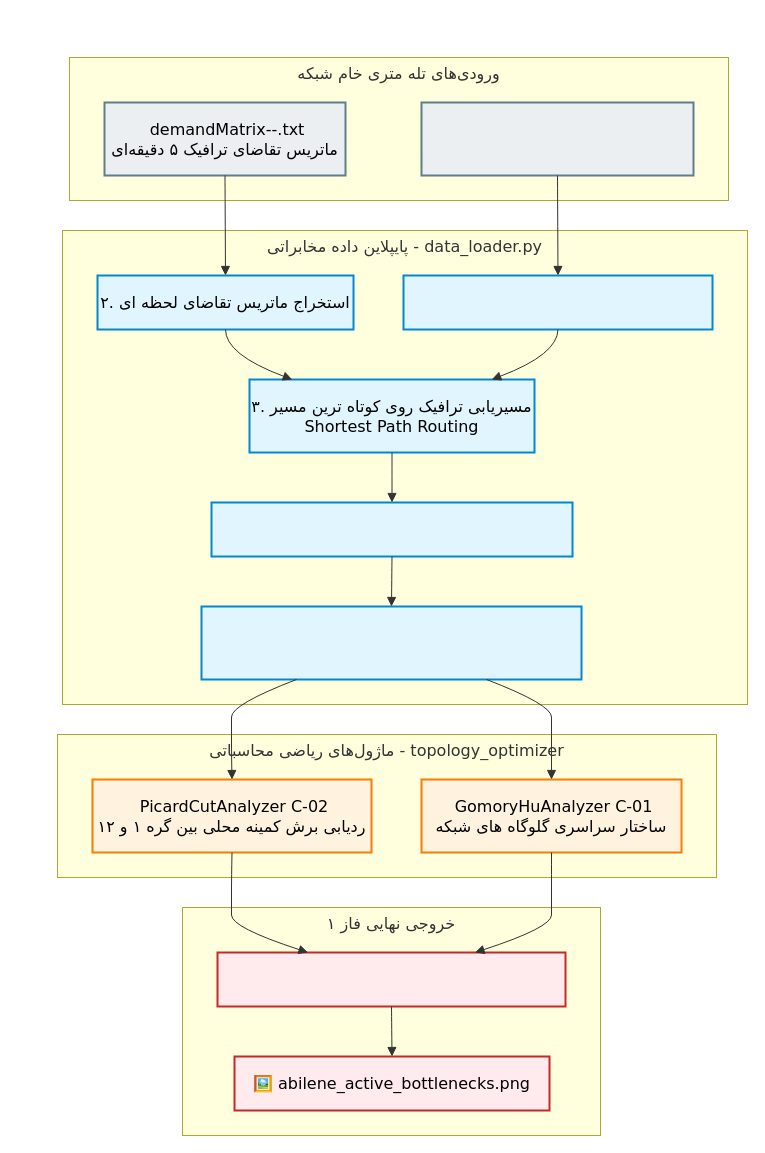
The diagram is 765 pixels wide and 1153 high, and some of its shapes have lost their labels. The centre of each missing label's shape, as x and y in pixels:
"abilene_base_topology.txt توپولوژی فیزیکی و ظرفیت لینک‌ها" goes at point (557, 138).
"رسم مقایسه‌ ای و هایلایت لینک‌ ها با Matplotlib" goes at point (391, 979).
"۱. بارگذاری گراف فیزیکی پایه G_physical" goes at point (557, 302).
"۴. محاسبه بار انباشته روی تک‌ تک لینک‌ها Link Load" goes at point (391, 529).
"۵. ساخت گراف باقی‌مانده G_residual Cap_residual = max 0.1, Cap_physical - Load" goes at point (391, 642).
